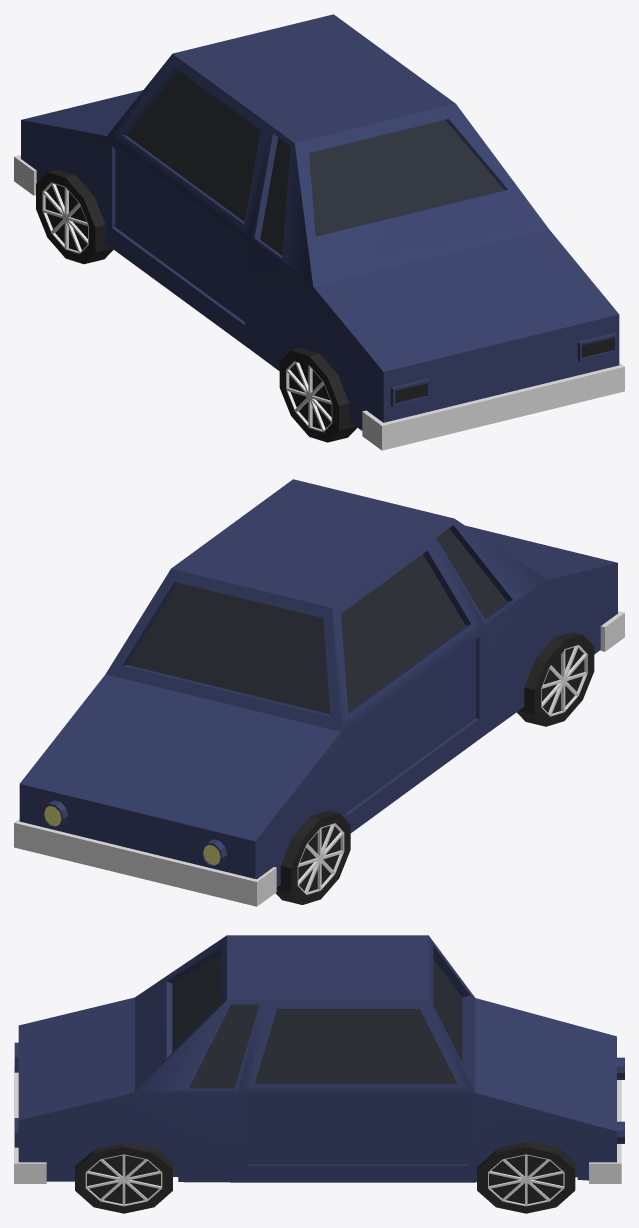
The model's file is Car_Blue.fbx.
3 renders of one model, top to bottom at view 1: azimuth 30°, elevation 25°; view 2: azimuth 150°, elevation 25°; view 3: azimuth 270°, elevation 25°, orthographic. The views are drawn at different scales.
Visible parts, largest first — view 1: polySurface32, pCylinder9, polySurface30, pCube24, polySurface31; view 2: polySurface32, pCylinder9, polySurface31, polySurface30, pCylinder11; view 3: polySurface32, pCylinder9, polySurface30, polySurface31.
Boxes of the visible parts, bbox=[...] form: polySurface32: bbox=[21, 14, 619, 430]; pCylinder9: bbox=[36, 169, 357, 442]; polySurface30: bbox=[362, 363, 624, 450]; pCube24: bbox=[390, 333, 616, 407]; polySurface31: bbox=[14, 155, 36, 195]; polySurface32: bbox=[19, 479, 617, 887]; pCylinder9: bbox=[275, 632, 594, 904]; polySurface31: bbox=[14, 819, 276, 906]; polySurface30: bbox=[600, 611, 624, 651]; pCylinder11: bbox=[200, 839, 227, 867]; polySurface32: bbox=[18, 935, 616, 1182]; pCylinder9: bbox=[75, 1141, 575, 1213]; polySurface30: bbox=[14, 1065, 46, 1183]; polySurface31: bbox=[589, 1080, 621, 1183].
Size of the model in its own units: 1280 by 1138 by 3227.
